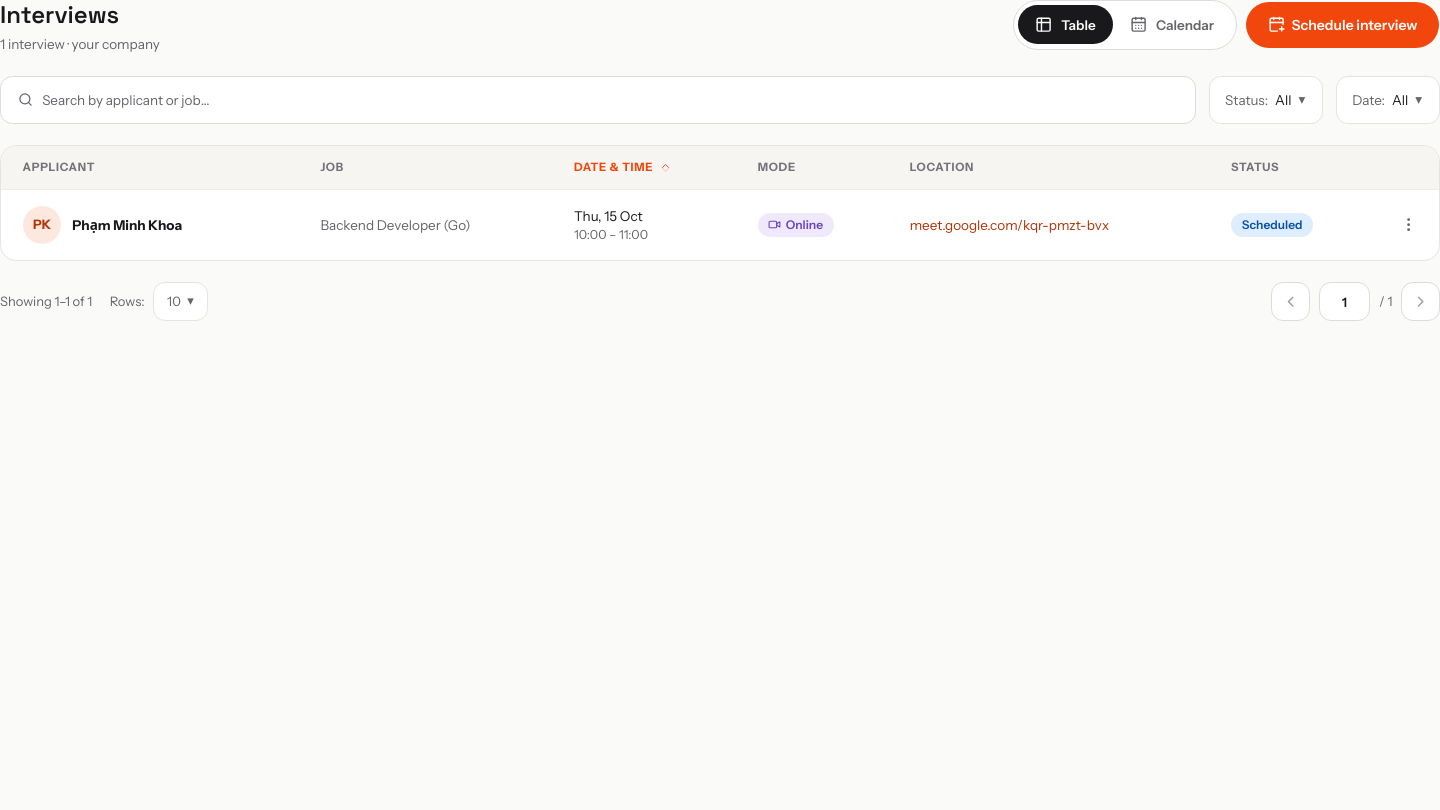
Test: Interview status actions in the table › opens the edit dialog and the reschedule dialog from the menu
This screenshot has width=1440, height=810.
Step 1. Click the button named "Actions for Phạm Minh Khoa" → (1409, 225), box [1392,208,1426,242]
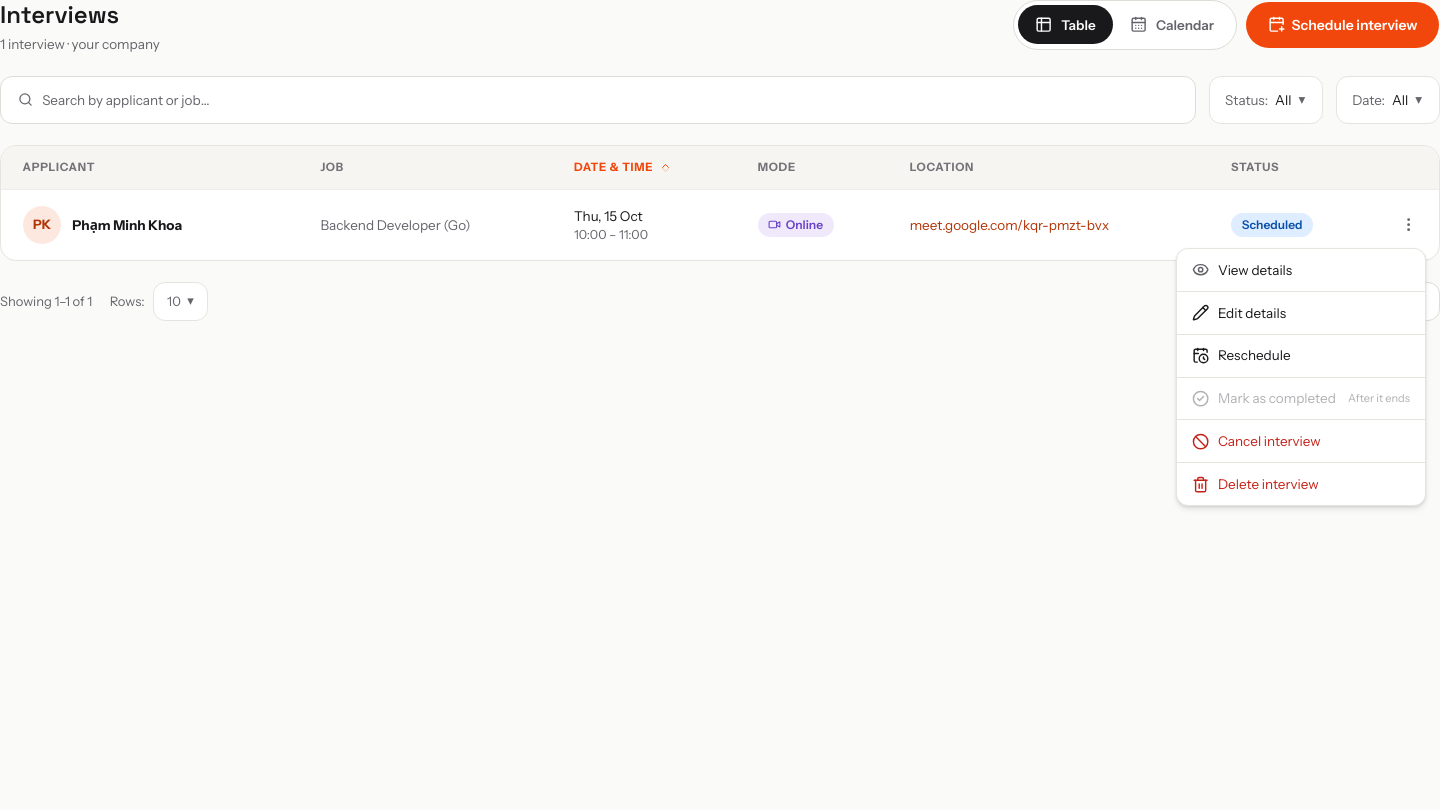
Step 2. Click the menu item "Edit details" → (1301, 312), box [1177,291,1425,334]
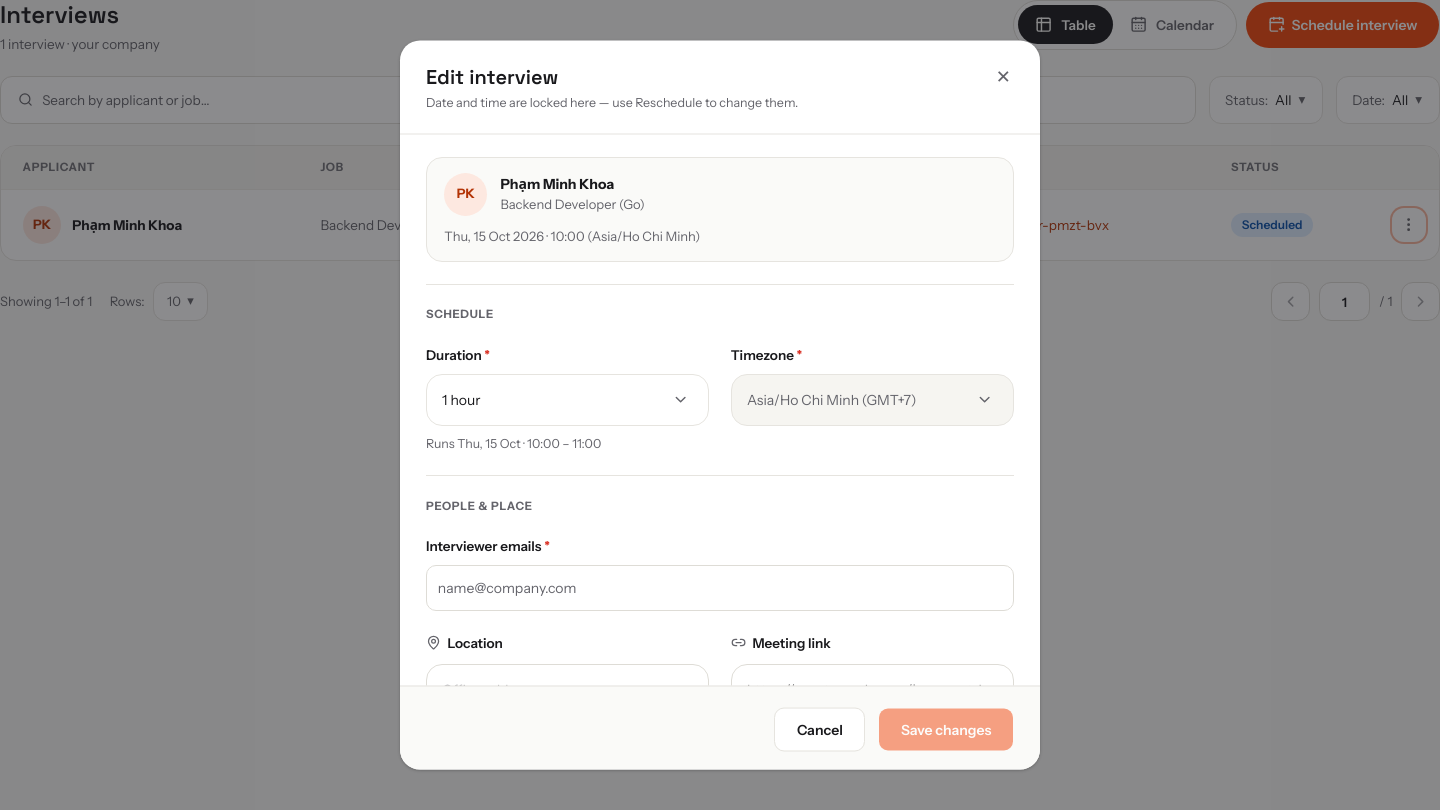
Check: the dialog "Edit interview" is shown, box [400,40,1040,770]
Step 3. Click the button "Cancel" → (820, 729), box [774,708,865,751]
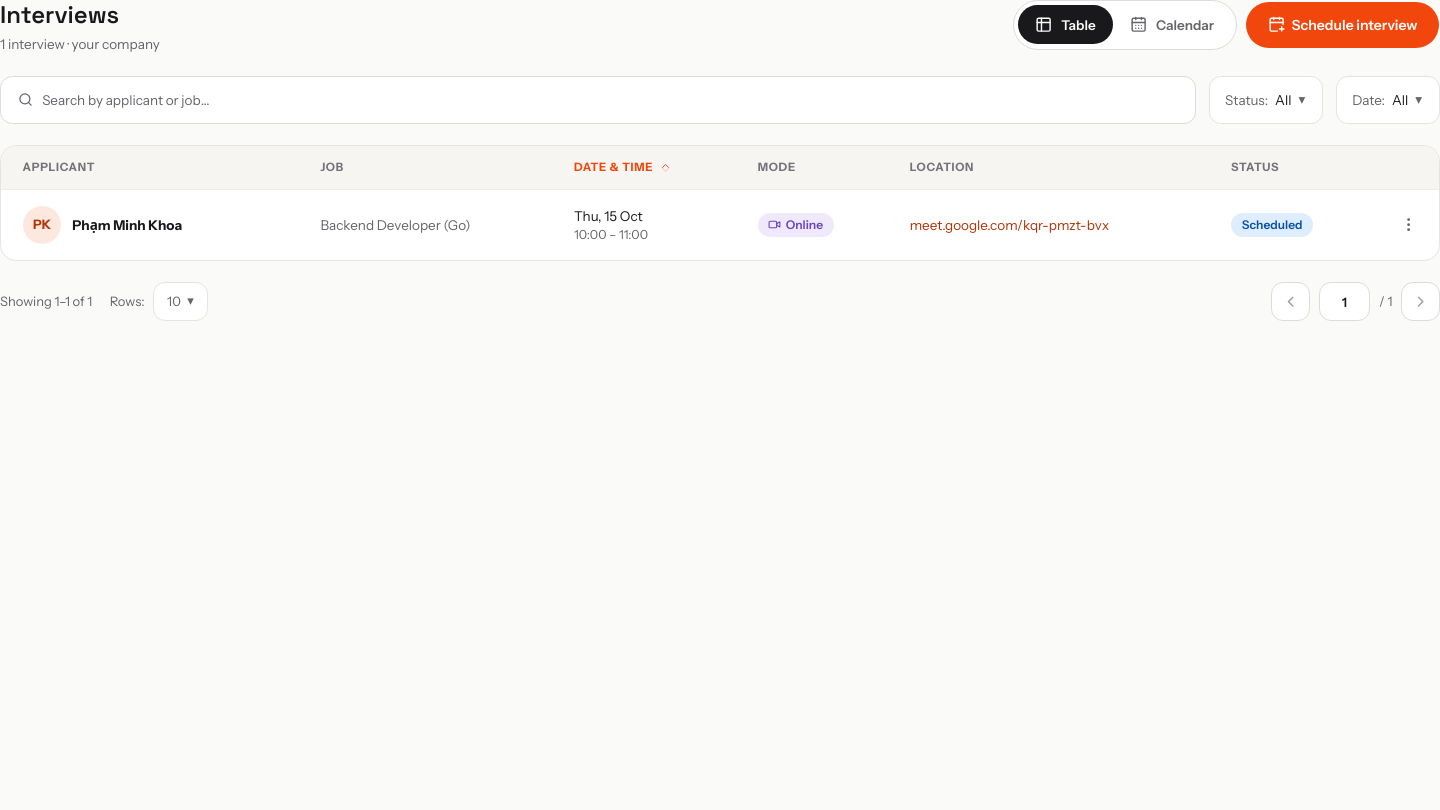
Check: the heading "Edit interview" is gone
Step 4. Click the button named "Actions for Phạm Minh Khoa" → (1409, 225), box [1392,208,1426,242]
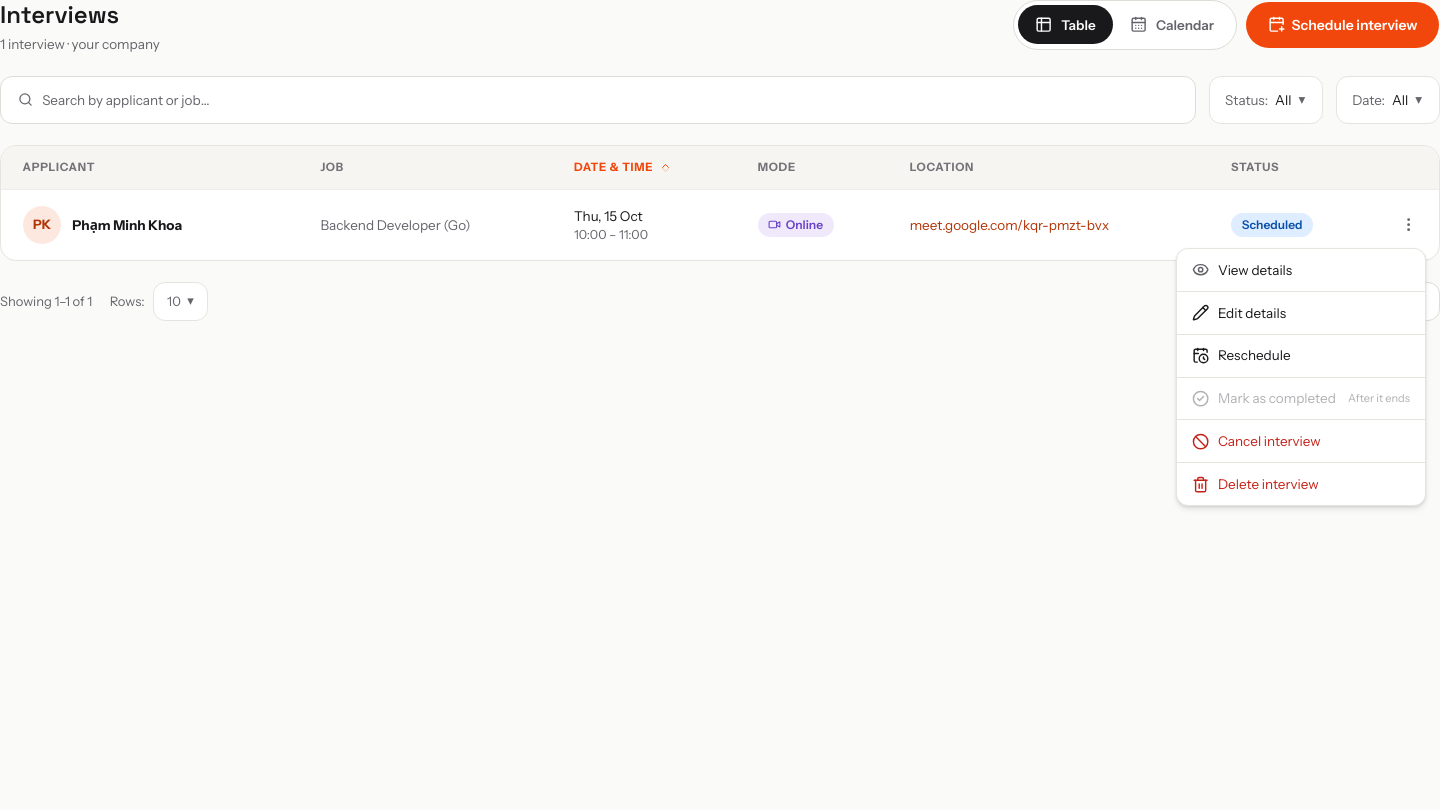
Step 5. Click the menu item "Reschedule" → (1301, 355), box [1177,334,1425,376]
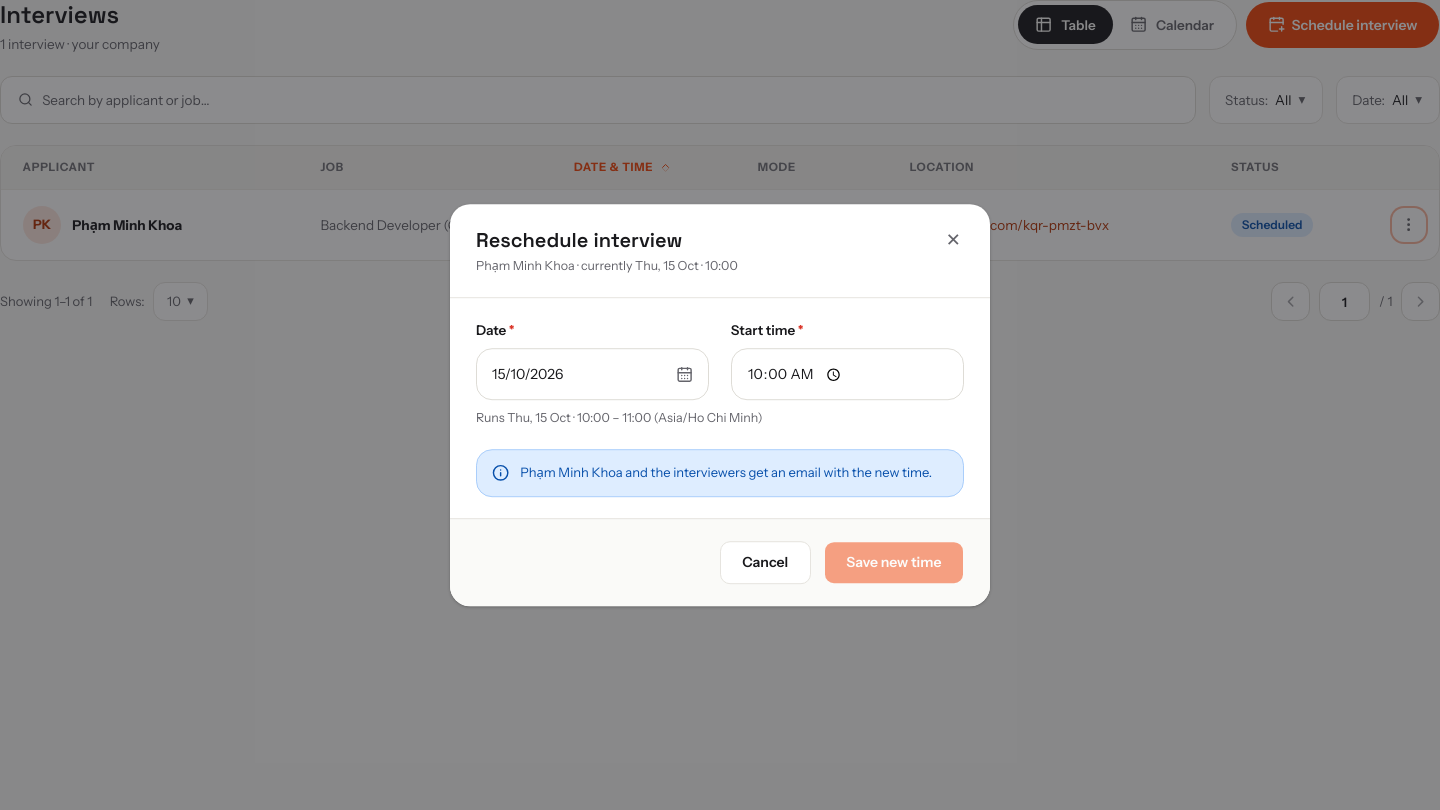
Check: the dialog "Reschedule interview" is shown, box [450,204,990,606]
